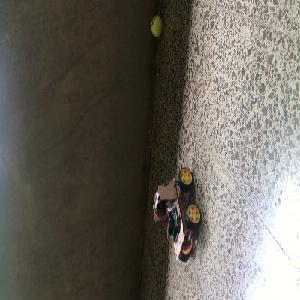Ball: (150, 16, 162, 36)
Robot: (152, 164, 202, 262)
